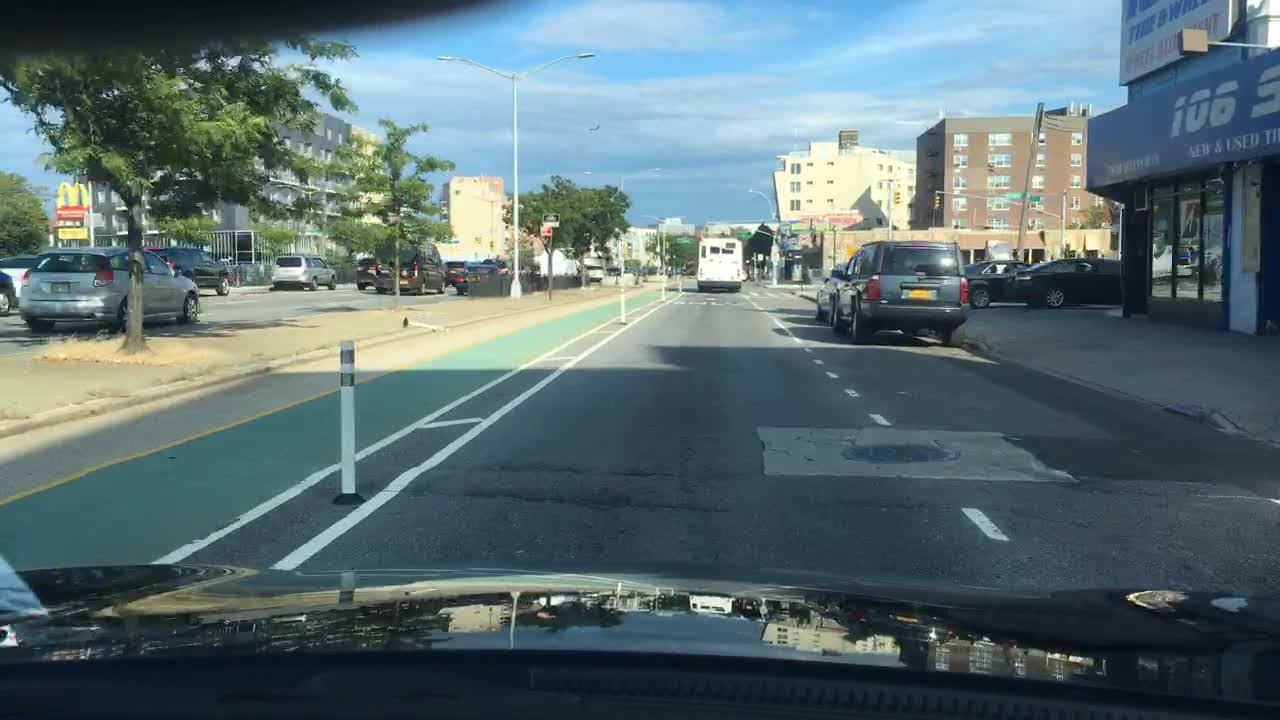bus: (692, 234, 744, 290)
car: (16, 248, 200, 326), (832, 237, 969, 341), (1015, 257, 1120, 309), (149, 247, 232, 294), (963, 259, 1038, 309), (376, 237, 444, 291), (268, 255, 338, 289), (813, 262, 848, 325), (1, 252, 33, 294), (455, 263, 500, 291), (358, 257, 380, 288), (0, 270, 12, 318), (575, 264, 605, 281), (445, 259, 466, 281), (490, 259, 511, 274)
traffic light: (890, 190, 902, 205), (932, 194, 939, 210)
traffic sign: (541, 212, 557, 225), (732, 229, 751, 238), (1003, 190, 1020, 199), (540, 227, 552, 237), (678, 237, 691, 245), (1030, 193, 1041, 202)
